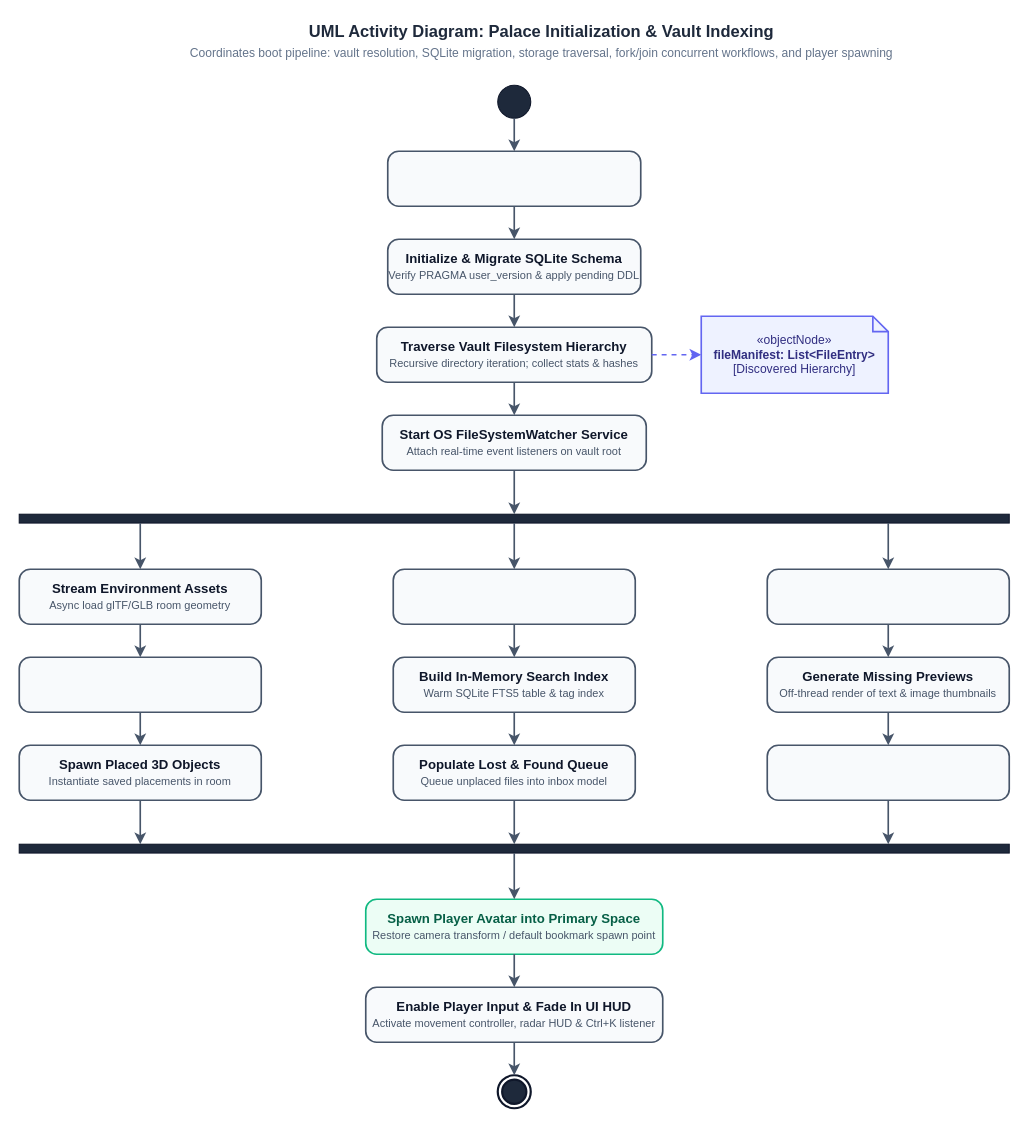
The diagram is 1030 pixels wide and 1128 high, and some of its shapes have lost their labels. Each missing label, with the box of its shape:
Audit Thumbnail Cache Check local hash against disk cache on .fq/cache: (766, 568, 1010, 625)
Bake Static Colliders & Lighting Build physics navigation mesh & probes: (18, 656, 262, 713)
Prime Texture GPU Pool Preload active room materials & MIP maps: (766, 744, 1010, 801)
Reconcile Index vs Vault Diff manifest against SQLite files table: (392, 568, 636, 625)
Resolve Vault Root Directory Read settings config or prompt directory picker: (386, 150, 641, 207)
